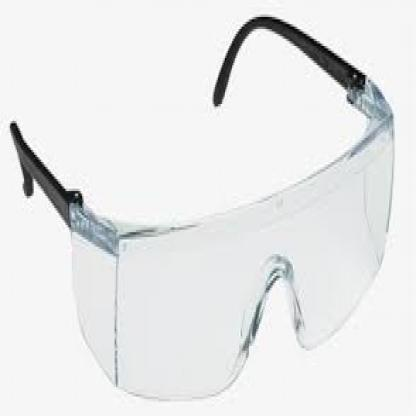goggles: (22, 67, 404, 398)
